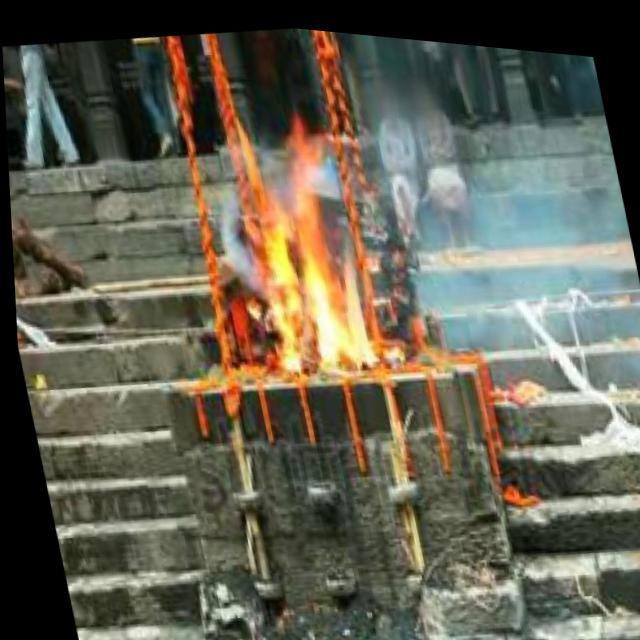Fire: (227, 128, 386, 386)
